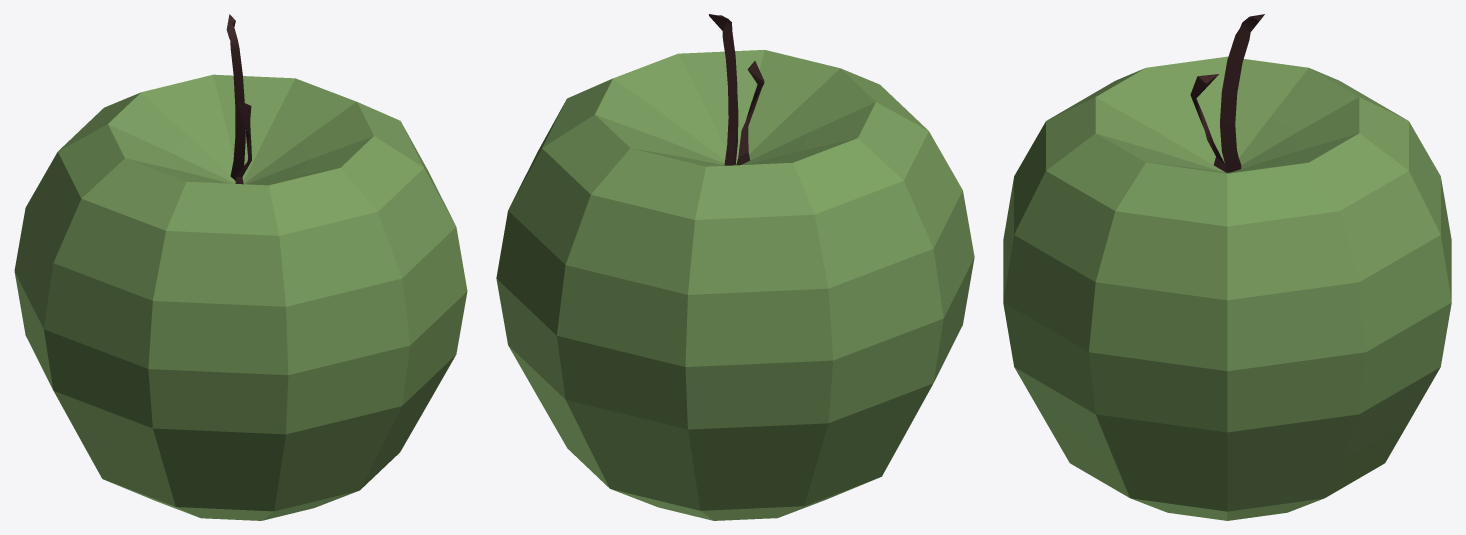
The model's file is prop_green_apple.fbx.
3 renders of one model, left to right at view 1: azimuth 30°, elevation 25°; view 2: azimuth 150°, elevation 25°; view 3: azimuth 270°, elevation 25°, orthographic. The views are drawn at different scales.
Visible parts, largest first — view 1: pSphere3; view 2: pSphere3; view 3: pSphere3.
Part boxes in pixels (bbox=[...]): pSphere3: bbox=[14, 14, 467, 520]; pSphere3: bbox=[496, 14, 974, 520]; pSphere3: bbox=[1003, 14, 1451, 520].
Size of the model in its own units: 9.79 by 10.87 by 9.31.
